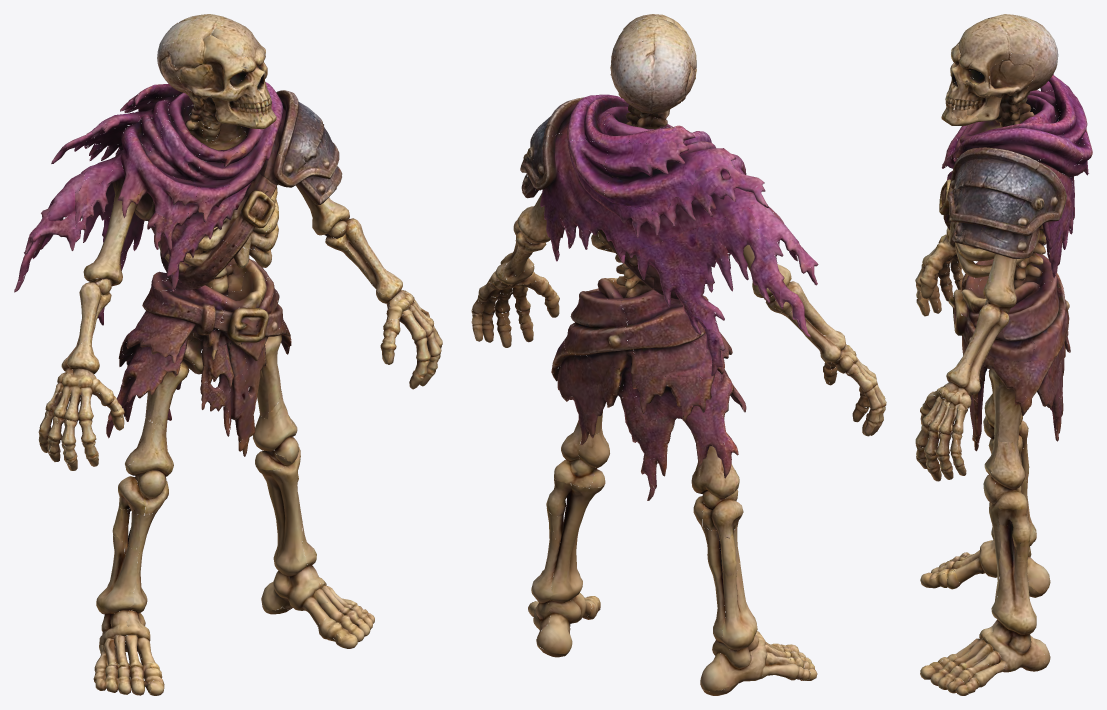
The model's file is skeleton.glb.
3 renders of one model, left to right at view 1: azimuth 30°, elevation 25°; view 2: azimuth 150°, elevation 25°; view 3: azimuth 270°, elevation 25°, orthographic. The views are drawn at different scales.
Parts seen in each view (by area): view 1: tripo_node_9b2d2a7a-772d-497f-9345-866c11ea030b; view 2: tripo_node_9b2d2a7a-772d-497f-9345-866c11ea030b; view 3: tripo_node_9b2d2a7a-772d-497f-9345-866c11ea030b.
Part boxes in pixels (box(x1,y1,x2,y2)): tripo_node_9b2d2a7a-772d-497f-9345-866c11ea030b: box(14, 14, 442, 695); tripo_node_9b2d2a7a-772d-497f-9345-866c11ea030b: box(471, 14, 886, 695); tripo_node_9b2d2a7a-772d-497f-9345-866c11ea030b: box(915, 14, 1092, 695).
Bounding box in the file's own units: 0.6542 × 0.9793 × 0.2568.
1 material, 1 textured.
